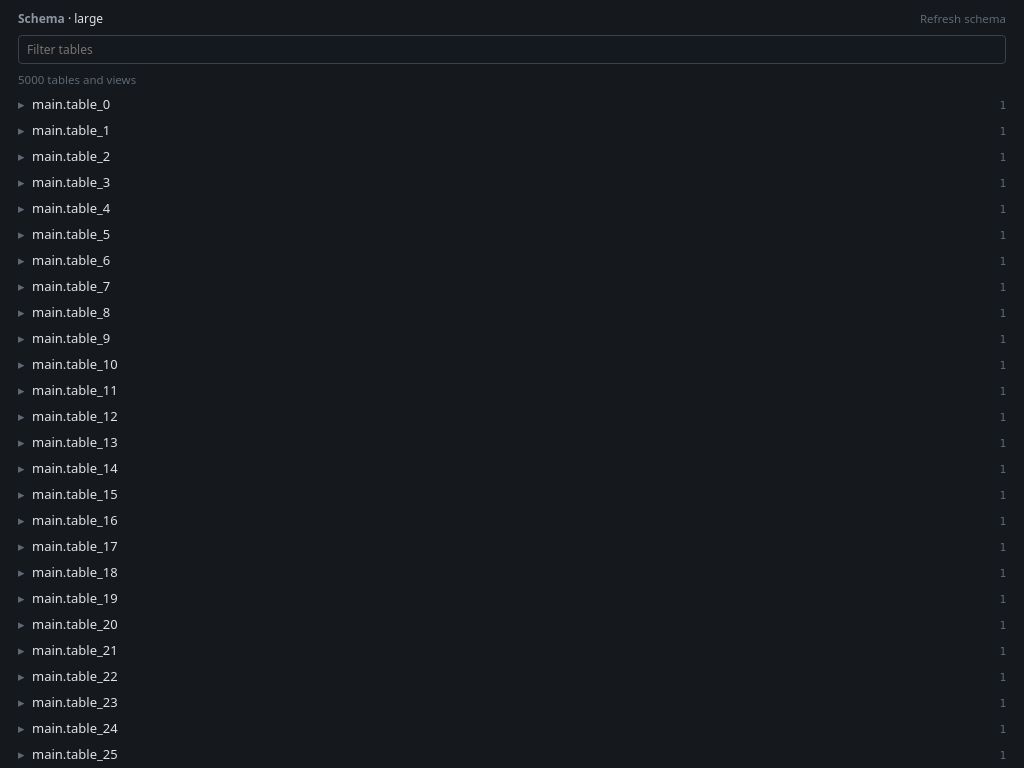
schema panel › bounds rendered rows for large schemas and filters beyond the first page
This screenshot has width=1024, height=768.
Type "table_4999" into the field labelled "Filter tables" at (512, 50), box left=18, top=35, right=1006, bottom=64
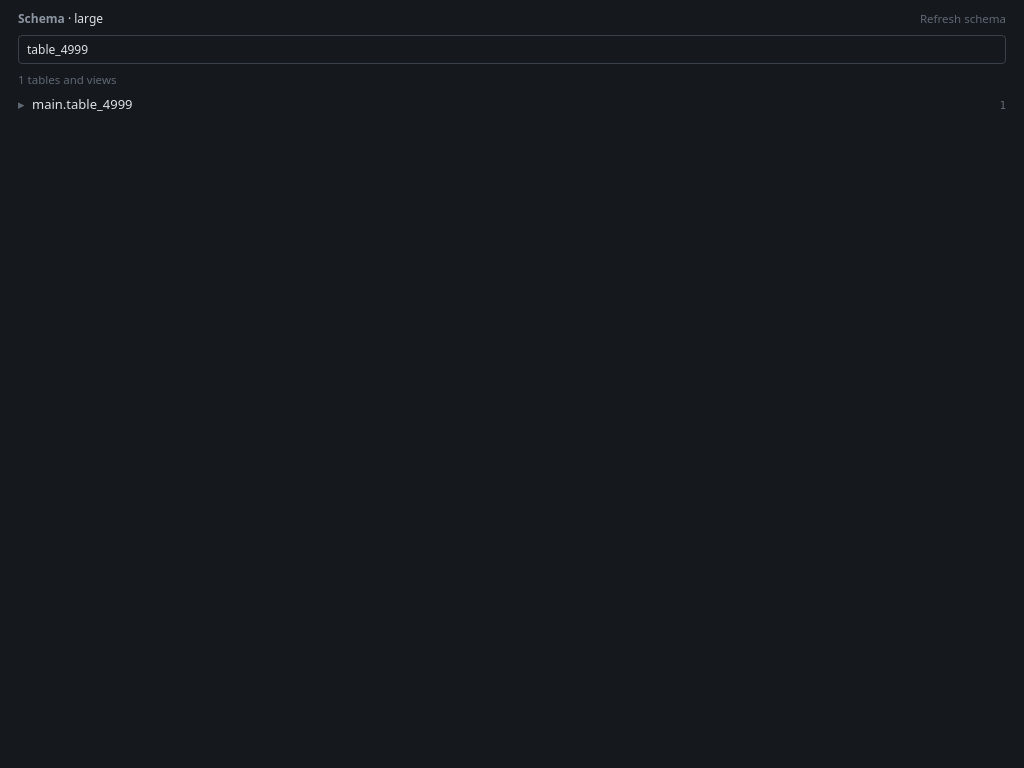
Check: the button "▸ main.table_4999 1" is shown, box left=10, top=91, right=1014, bottom=117
